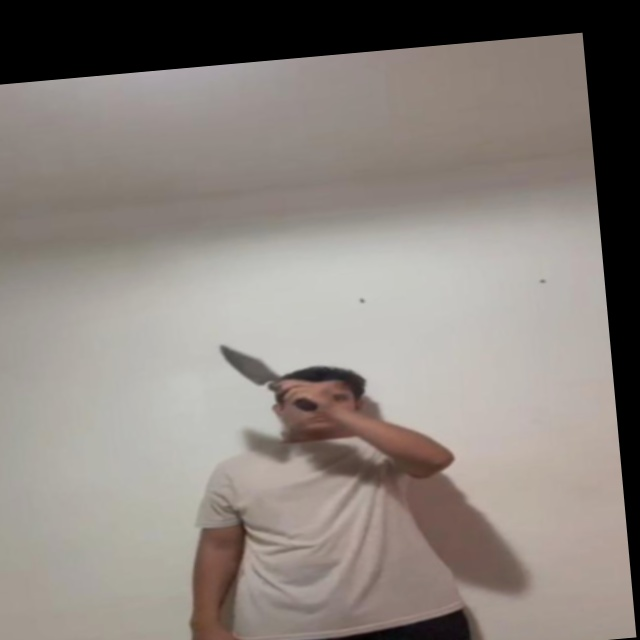Sharp-Object: (216, 340, 281, 389)
